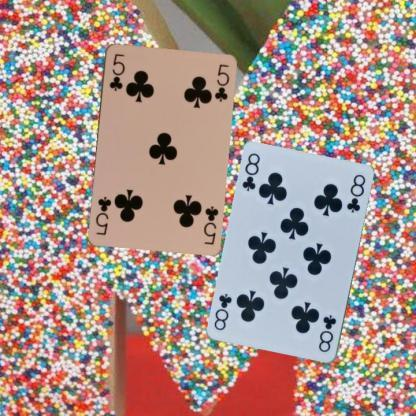5c: (106, 50, 126, 92), (201, 204, 219, 246)
8c: (316, 312, 338, 354), (240, 151, 262, 193)
